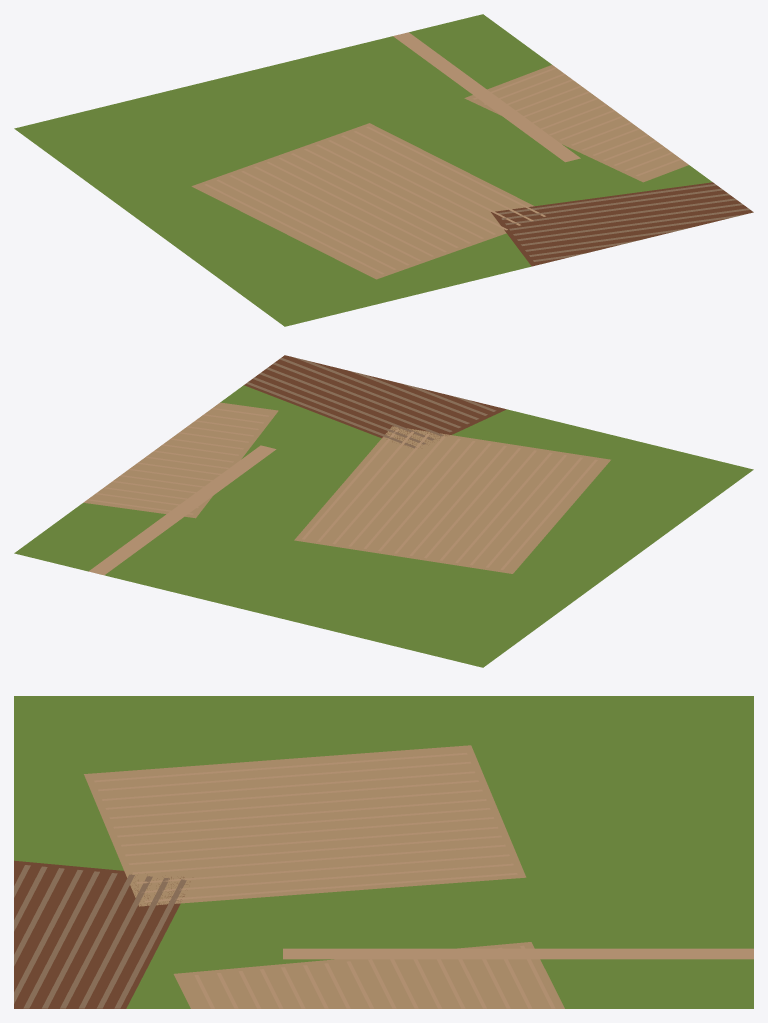
Rendered from crossing-7-1.glb.
3 renders of one model, top to bottom at view 1: azimuth 30°, elevation 25°; view 2: azimuth 150°, elevation 25°; view 3: azimuth 270°, elevation 25°, orthographic. The views are drawn at different scales.
Visible parts, largest first — view 1: crossing-7-1; view 2: crossing-7-1; view 3: crossing-7-1.
Part boxes in pixels (<box>): crossing-7-1: <box>14,14,753,326</box>; crossing-7-1: <box>14,355,753,667</box>; crossing-7-1: <box>14,696,753,1008</box>.
Size of the model in its own units: 100 by 0.0072 by 100.
